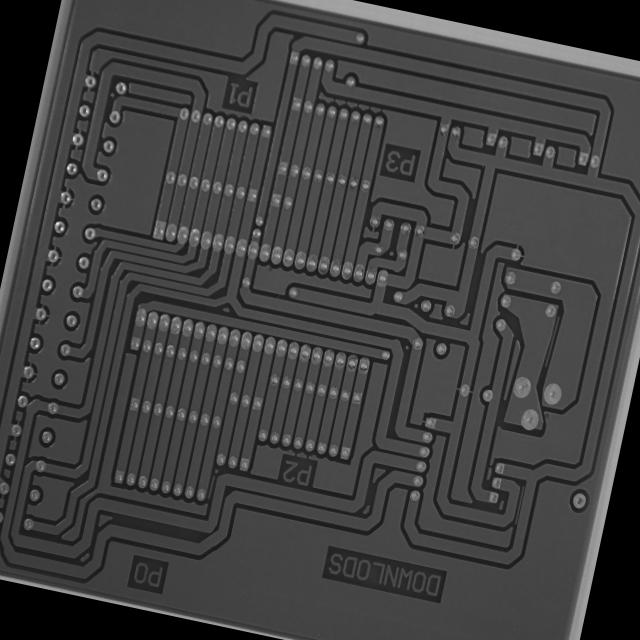spurious_copper: (541, 313, 564, 370), (511, 482, 527, 526), (205, 473, 218, 501)
